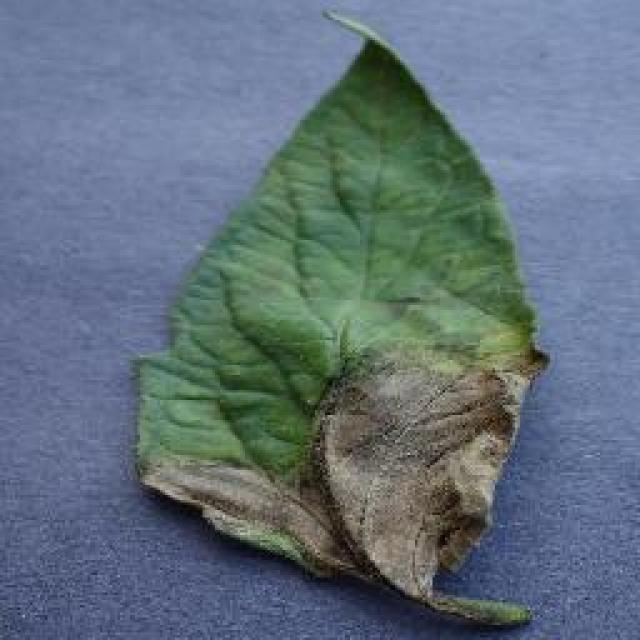Tomato Late Blight: (212, 330, 526, 592)
